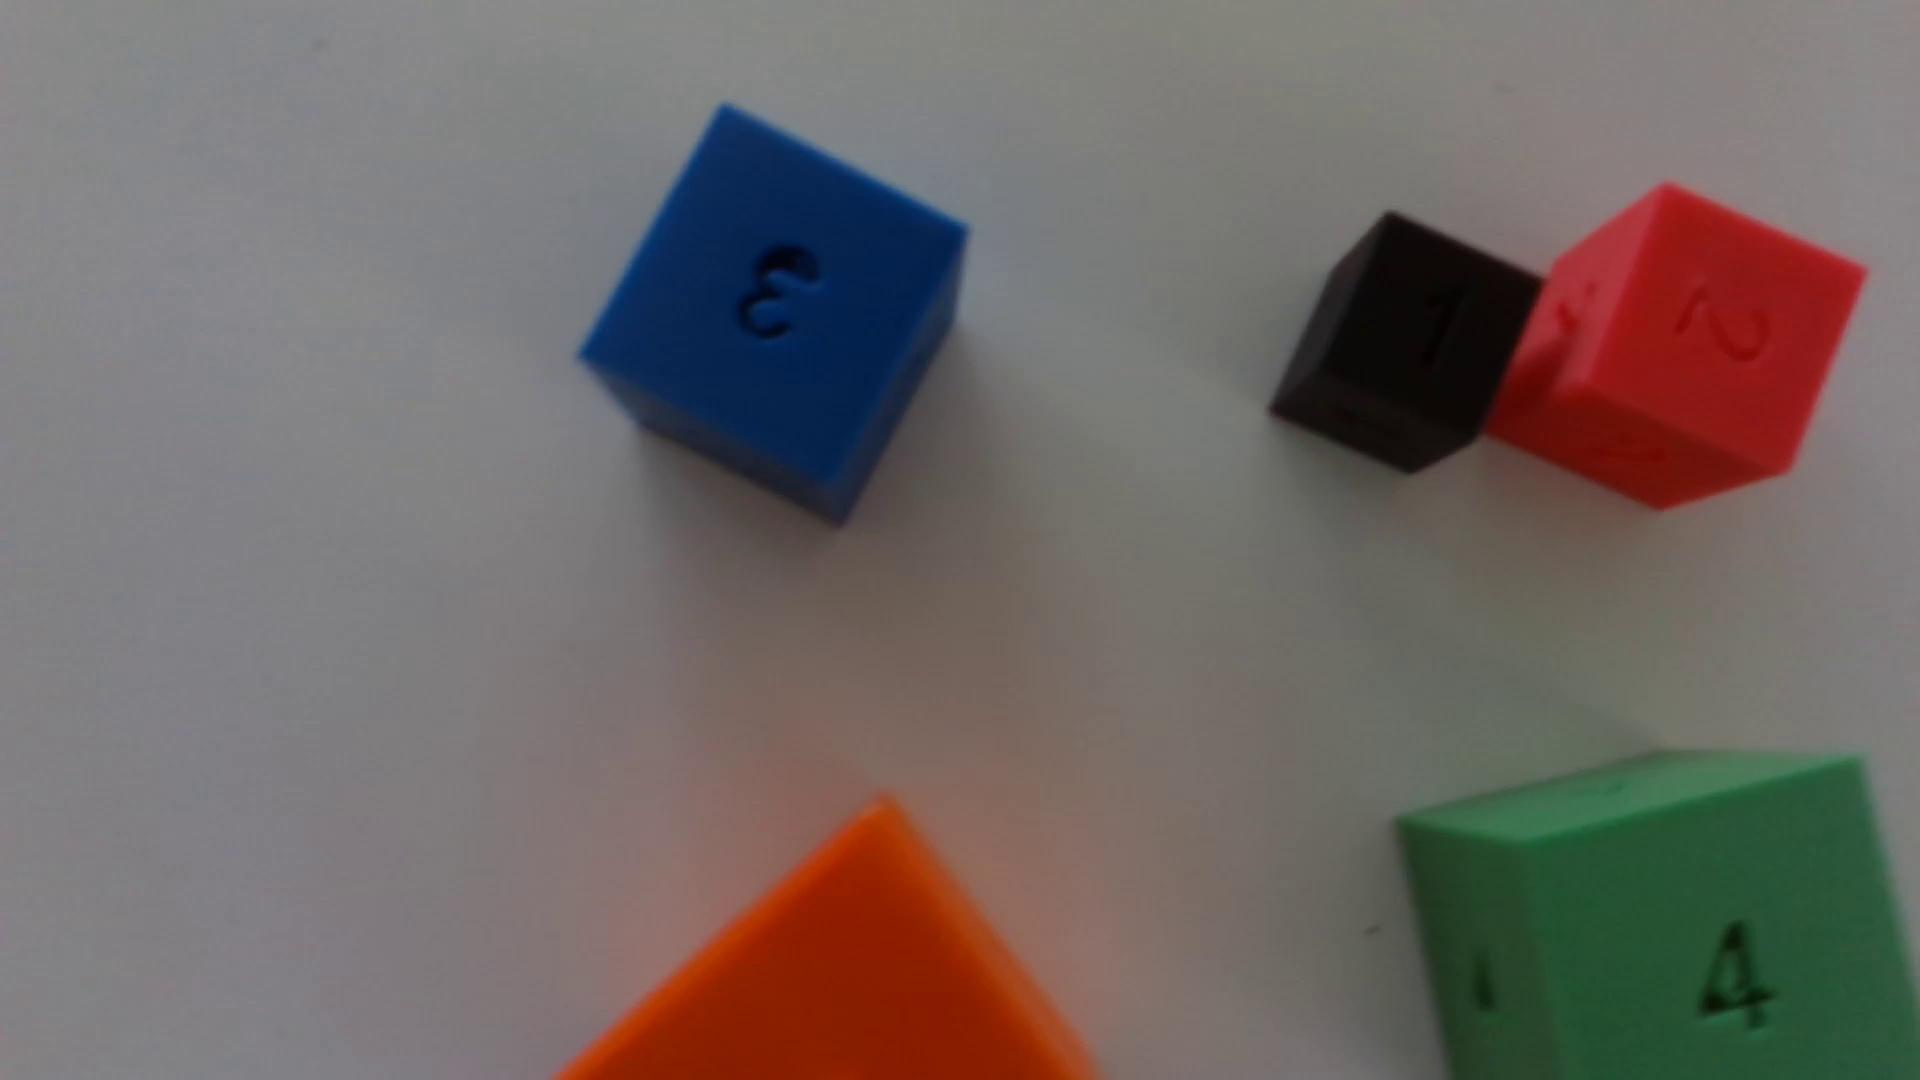black: (1269, 214, 1542, 475)
blue: (580, 107, 967, 524)
green: (1396, 752, 1920, 1080)
orange: (558, 802, 1095, 1080)
red: (1486, 185, 1865, 512)
